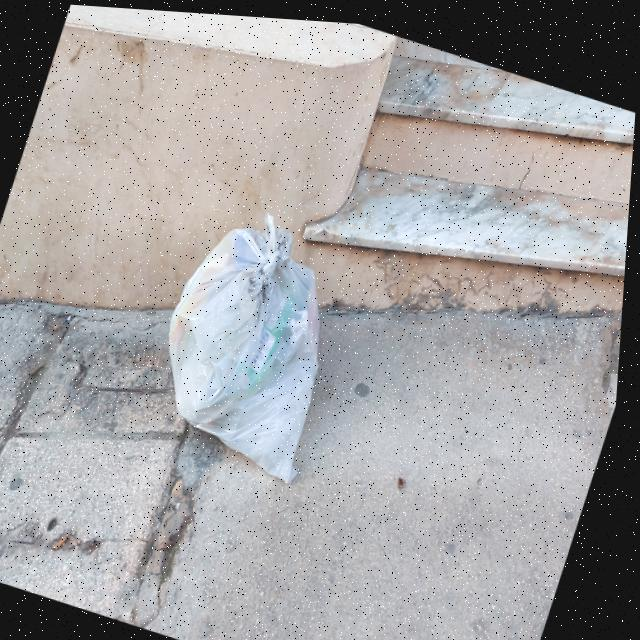Organic Waste -White Bag-: (138, 203, 374, 481)
